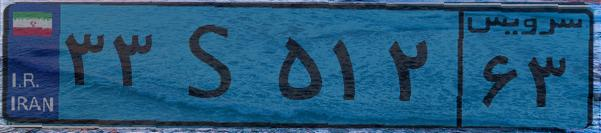1: (330, 28, 385, 110)
2: (385, 28, 445, 110)
3: (57, 26, 110, 100), (525, 38, 570, 115), (110, 28, 158, 98)
5: (270, 28, 330, 110)
6: (475, 38, 525, 113)
S: (158, 12, 270, 120)
